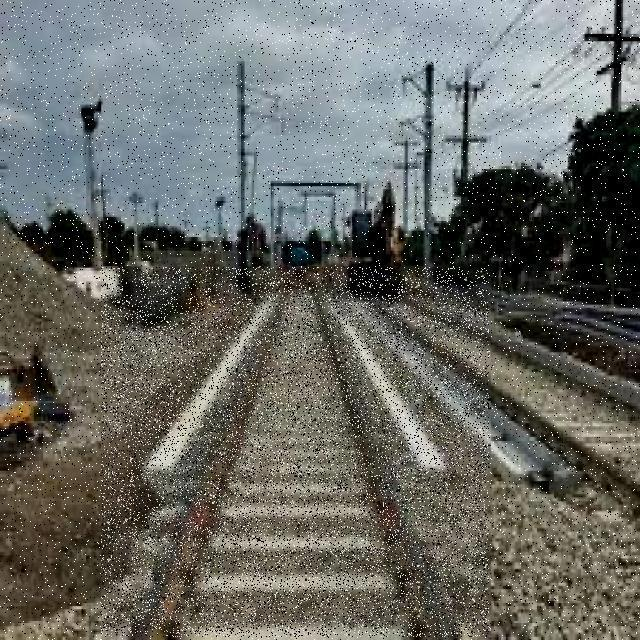rail: (101, 268, 489, 637), (366, 290, 640, 536)
